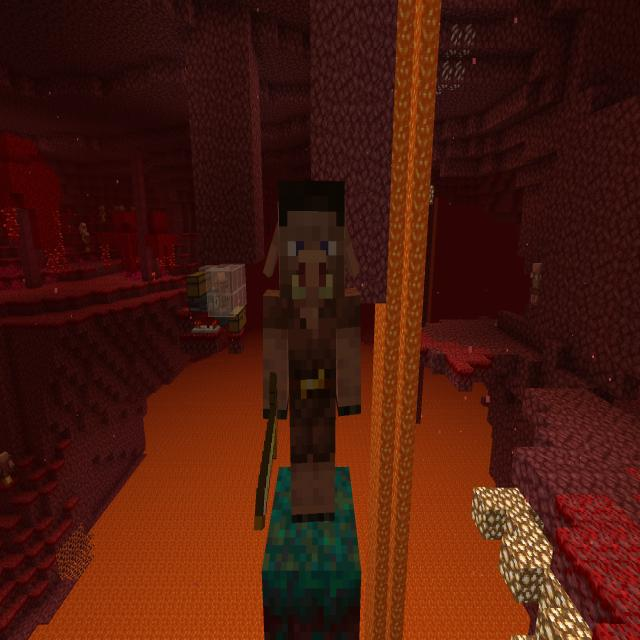Piglin: (252, 173, 364, 542)
